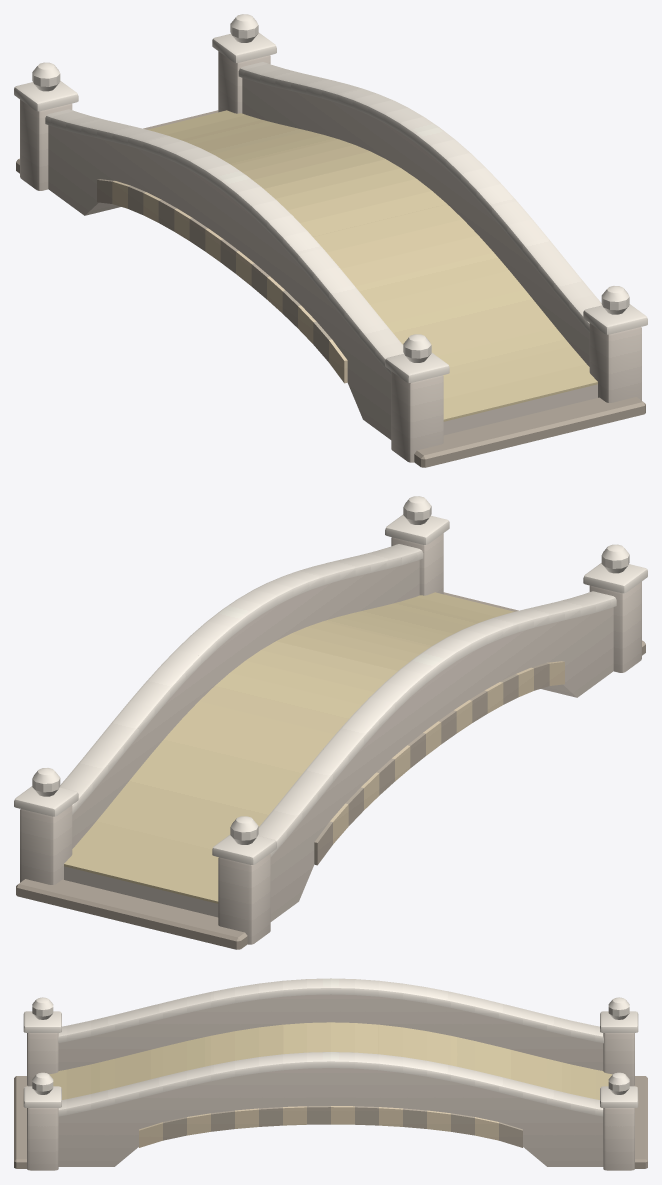
File: footbridge.glb
The picture shows the model from 3 angles, top to bottom: view 1: azimuth 30°, elevation 25°; view 2: azimuth 150°, elevation 25°; view 3: azimuth 270°, elevation 25°; orthographic projection. The views are drawn at different scales.
Parts seen in each view (by area): view 1: footbridge; view 2: footbridge; view 3: footbridge.
Part boxes in pixels (x1,y1,x2,y2): footbridge: [14, 14, 647, 467]; footbridge: [14, 496, 647, 949]; footbridge: [14, 978, 647, 1170].
Bounding box in the file's own units: 4.5 × 2.46 × 13.2.
1 material, 1 textured.
